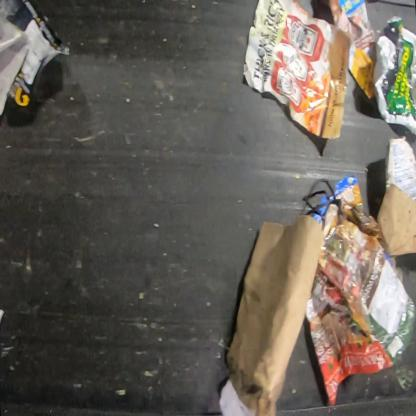cardboard: (228, 214, 322, 415), (377, 136, 415, 258)
soft_plastic: (373, 17, 415, 136)
